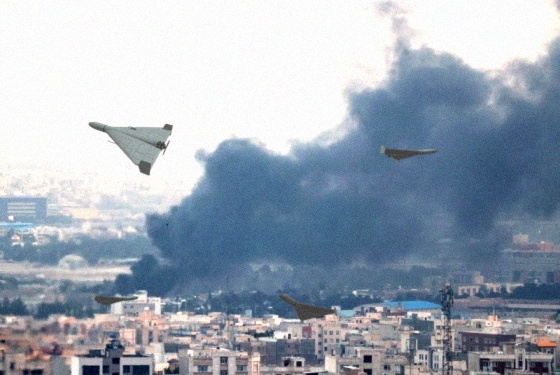shahed: (87, 118, 175, 176), (277, 293, 339, 324), (378, 143, 438, 163), (93, 295, 140, 307)
